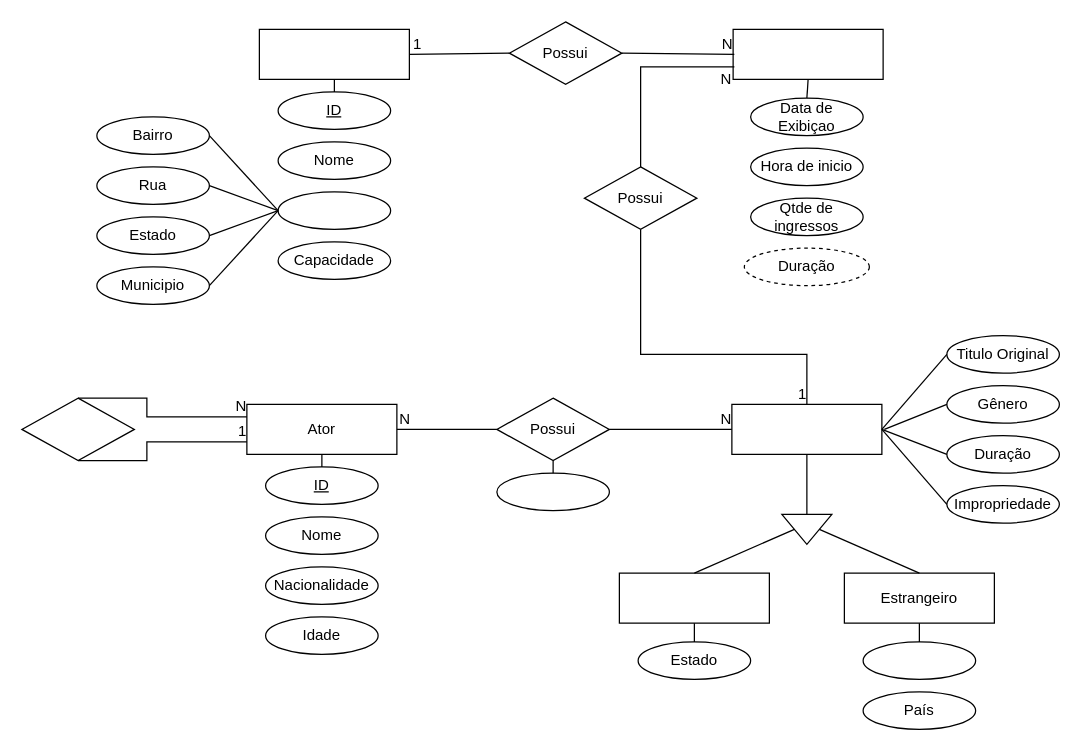
The diagram is 1081 pixels wide and 751 high, and some of its shapes have lost their labels. The box of each missing label's shape, as (x1, y1, x2, y2) in pixels:
Cinema: (258, 28, 409, 79)
Diretor: (496, 472, 609, 511)
Dirige: (21, 397, 134, 461)
Endereço: (277, 191, 391, 229)
Filme: (731, 403, 882, 454)
Nacional: (618, 572, 769, 623)
Sessão: (732, 28, 883, 79)
Titulo Português: (862, 641, 976, 679)
